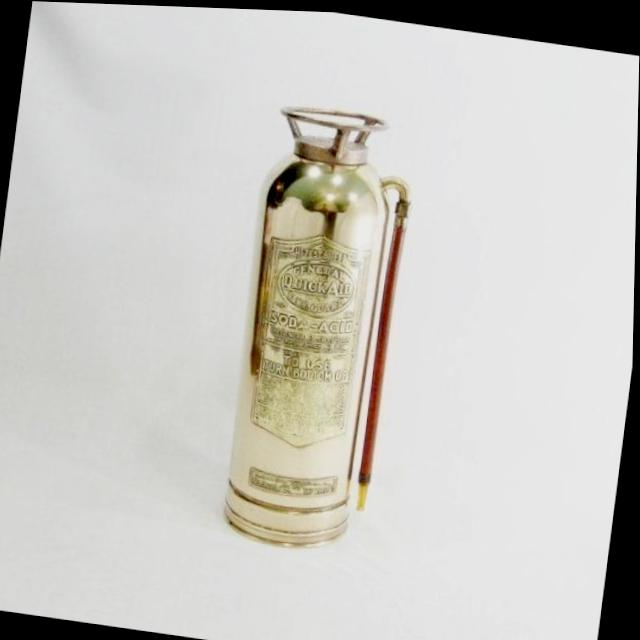FireExtinguisher: (207, 89, 423, 561)
